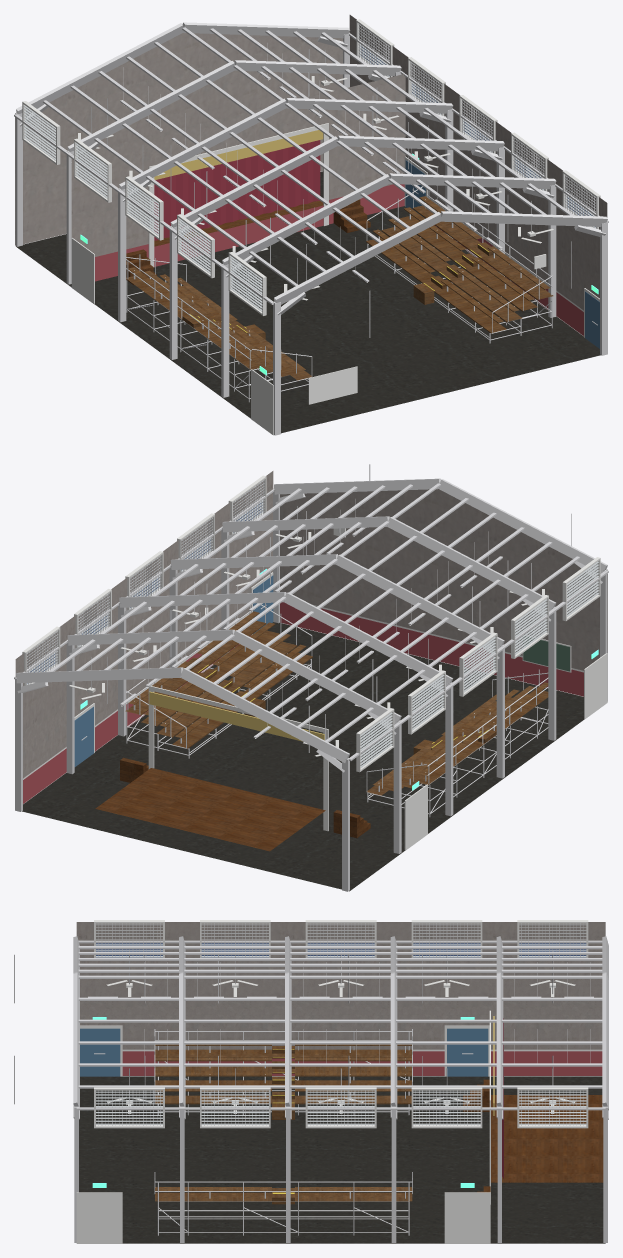
The model's file is table_tennis_hall.glb.
3 renders of one model, top to bottom at view 1: azimuth 30°, elevation 25°; view 2: azimuth 150°, elevation 25°; view 3: azimuth 270°, elevation 25°, orthographic. The views are drawn at different scales.
Parts seen in each view (by area): view 1: Frame.002, Plaster.002, Floor.002, Trim.002, Deck.003, Louvre.002, Curtain.002, Plank.003, Dado.002, Stage.002, Valance.002, Door.002 (+1 smaller); view 2: Frame.002, Floor.002, Plaster.002, Stage.002, Trim.002, Deck.003, Louvre.002, Dado.002, Plank.003, Valance.002, Door.002, Fan.002 (+1 smaller); view 3: Floor.002, Frame.002, Plaster.002, Trim.002, Louvre.002, Deck.003, Stage.002, Dado.002, Plank.003, Door.002, Night.002, Fan.002.
Boxes of the visible parts, x1=… form: Frame.002: x1=14, y1=22, x2=608, y2=435; Plaster.002: x1=15, y1=15, x2=607, y2=310; Floor.002: x1=16, y1=171, x2=600, y2=433; Trim.002: x1=22, y1=19, x2=600, y2=435; Deck.003: x1=126, y1=204, x2=553, y2=380; Louvre.002: x1=23, y1=24, x2=595, y2=311; Curtain.002: x1=154, y1=140, x2=320, y2=240; Plank.003: x1=128, y1=196, x2=550, y2=370; Dado.002: x1=95, y1=184, x2=583, y2=335; Stage.002: x1=126, y1=199, x2=370, y2=285; Valance.002: x1=154, y1=130, x2=323, y2=179; Door.002: x1=405, y1=160, x2=599, y2=348; Frame.002: x1=14, y1=464, x2=608, y2=891; Floor.002: x1=22, y1=622, x2=584, y2=891; Plaster.002: x1=15, y1=471, x2=607, y2=778; Stage.002: x1=95, y1=757, x2=370, y2=851; Trim.002: x1=22, y1=475, x2=607, y2=850; Deck.003: x1=125, y1=619, x2=548, y2=795; Louvre.002: x1=27, y1=480, x2=599, y2=767; Dado.002: x1=23, y1=602, x2=583, y2=803; Plank.003: x1=128, y1=611, x2=548, y2=785; Valance.002: x1=149, y1=691, x2=324, y2=741; Door.002: x1=74, y1=575, x2=273, y2=766; Fan.002: x1=69, y1=532, x2=544, y2=756; Floor.002: x1=79, y1=1076, x2=605, y2=1243; Frame.002: x1=14, y1=923, x2=608, y2=1242; Plaster.002: x1=76, y1=922, x2=605, y2=1049; Trim.002: x1=76, y1=920, x2=602, y2=1243; Louvre.002: x1=96, y1=924, x2=586, y2=1124; Deck.003: x1=155, y1=1046, x2=412, y2=1204; Stage.002: x1=463, y1=1079, x2=603, y2=1192; Dado.002: x1=122, y1=1051, x2=602, y2=1075; Plank.003: x1=155, y1=1044, x2=412, y2=1190; Door.002: x1=80, y1=1028, x2=488, y2=1076; Night.002: x1=96, y1=943, x2=586, y2=957; Fan.002: x1=106, y1=980, x2=575, y2=1113.
Bounding box in the file's own units: 17.38 × 9.01 × 25.87.
20 materials, 6 textured.
